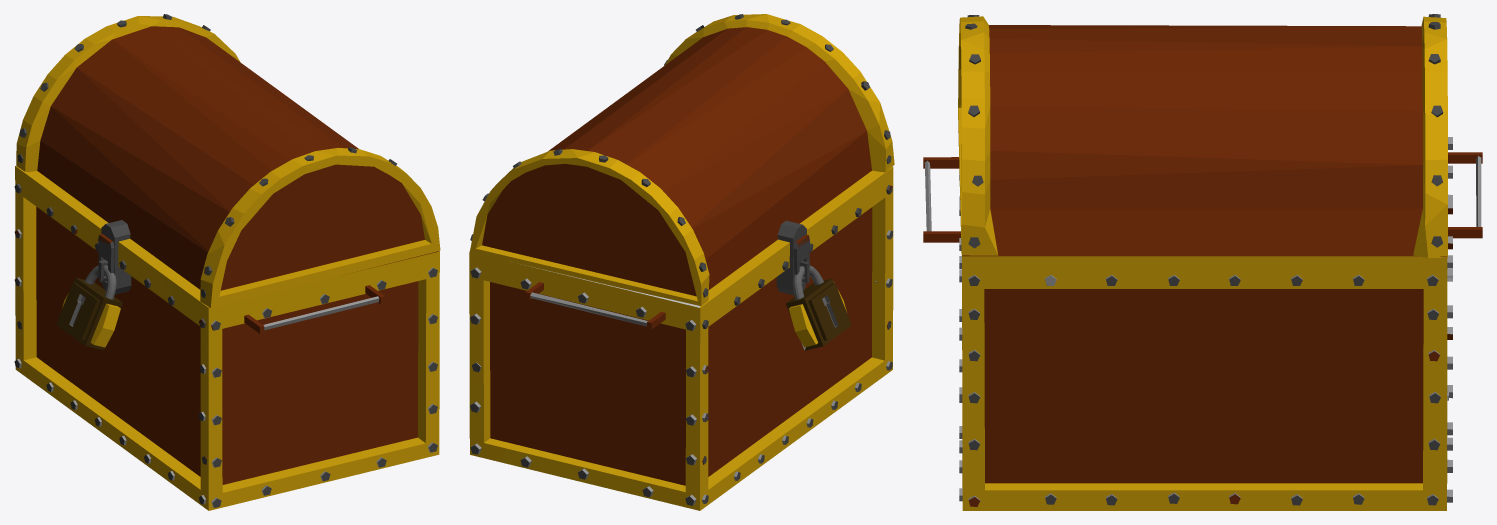
File: BrownChestAndLock.fbx
The picture shows the model from 3 angles, left to right: view 1: azimuth 30°, elevation 25°; view 2: azimuth 150°, elevation 25°; view 3: azimuth 270°, elevation 25°; orthographic projection. The views are drawn at different scales.
Visible parts, largest first — view 1: Cube.001, Cube; view 2: Cube.001, Cube; view 3: Cube.001.
Boxes of the visible parts, x1,y1,x2,y2 form: Cube.001: (14,14,440,510); Cube: (56,265,122,350); Cube.001: (469,14,894,510); Cube: (785,265,851,350); Cube.001: (923,14,1482,510).
Bounding box in the file's own units: 239 × 270 × 334.
